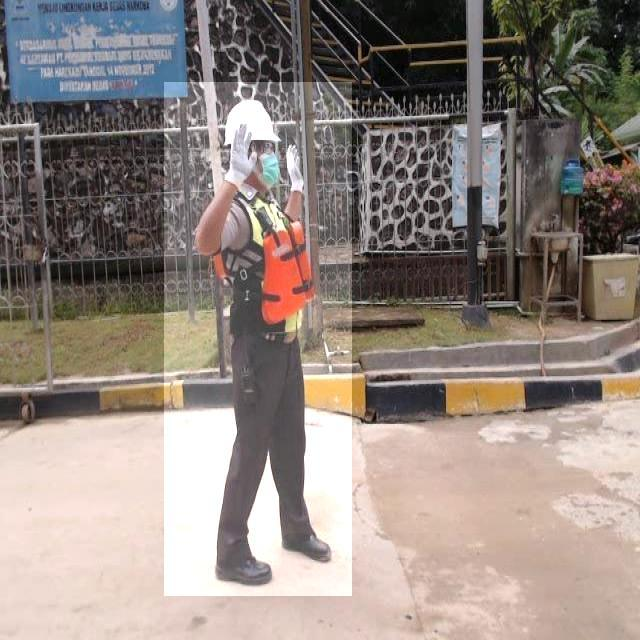Gloves: (213, 113, 267, 197)
Helmet: (223, 100, 280, 144)
Person: (168, 81, 359, 597)
Safety Boot: (214, 547, 275, 588), (280, 525, 333, 562)
Safety Vest: (225, 193, 312, 339)
